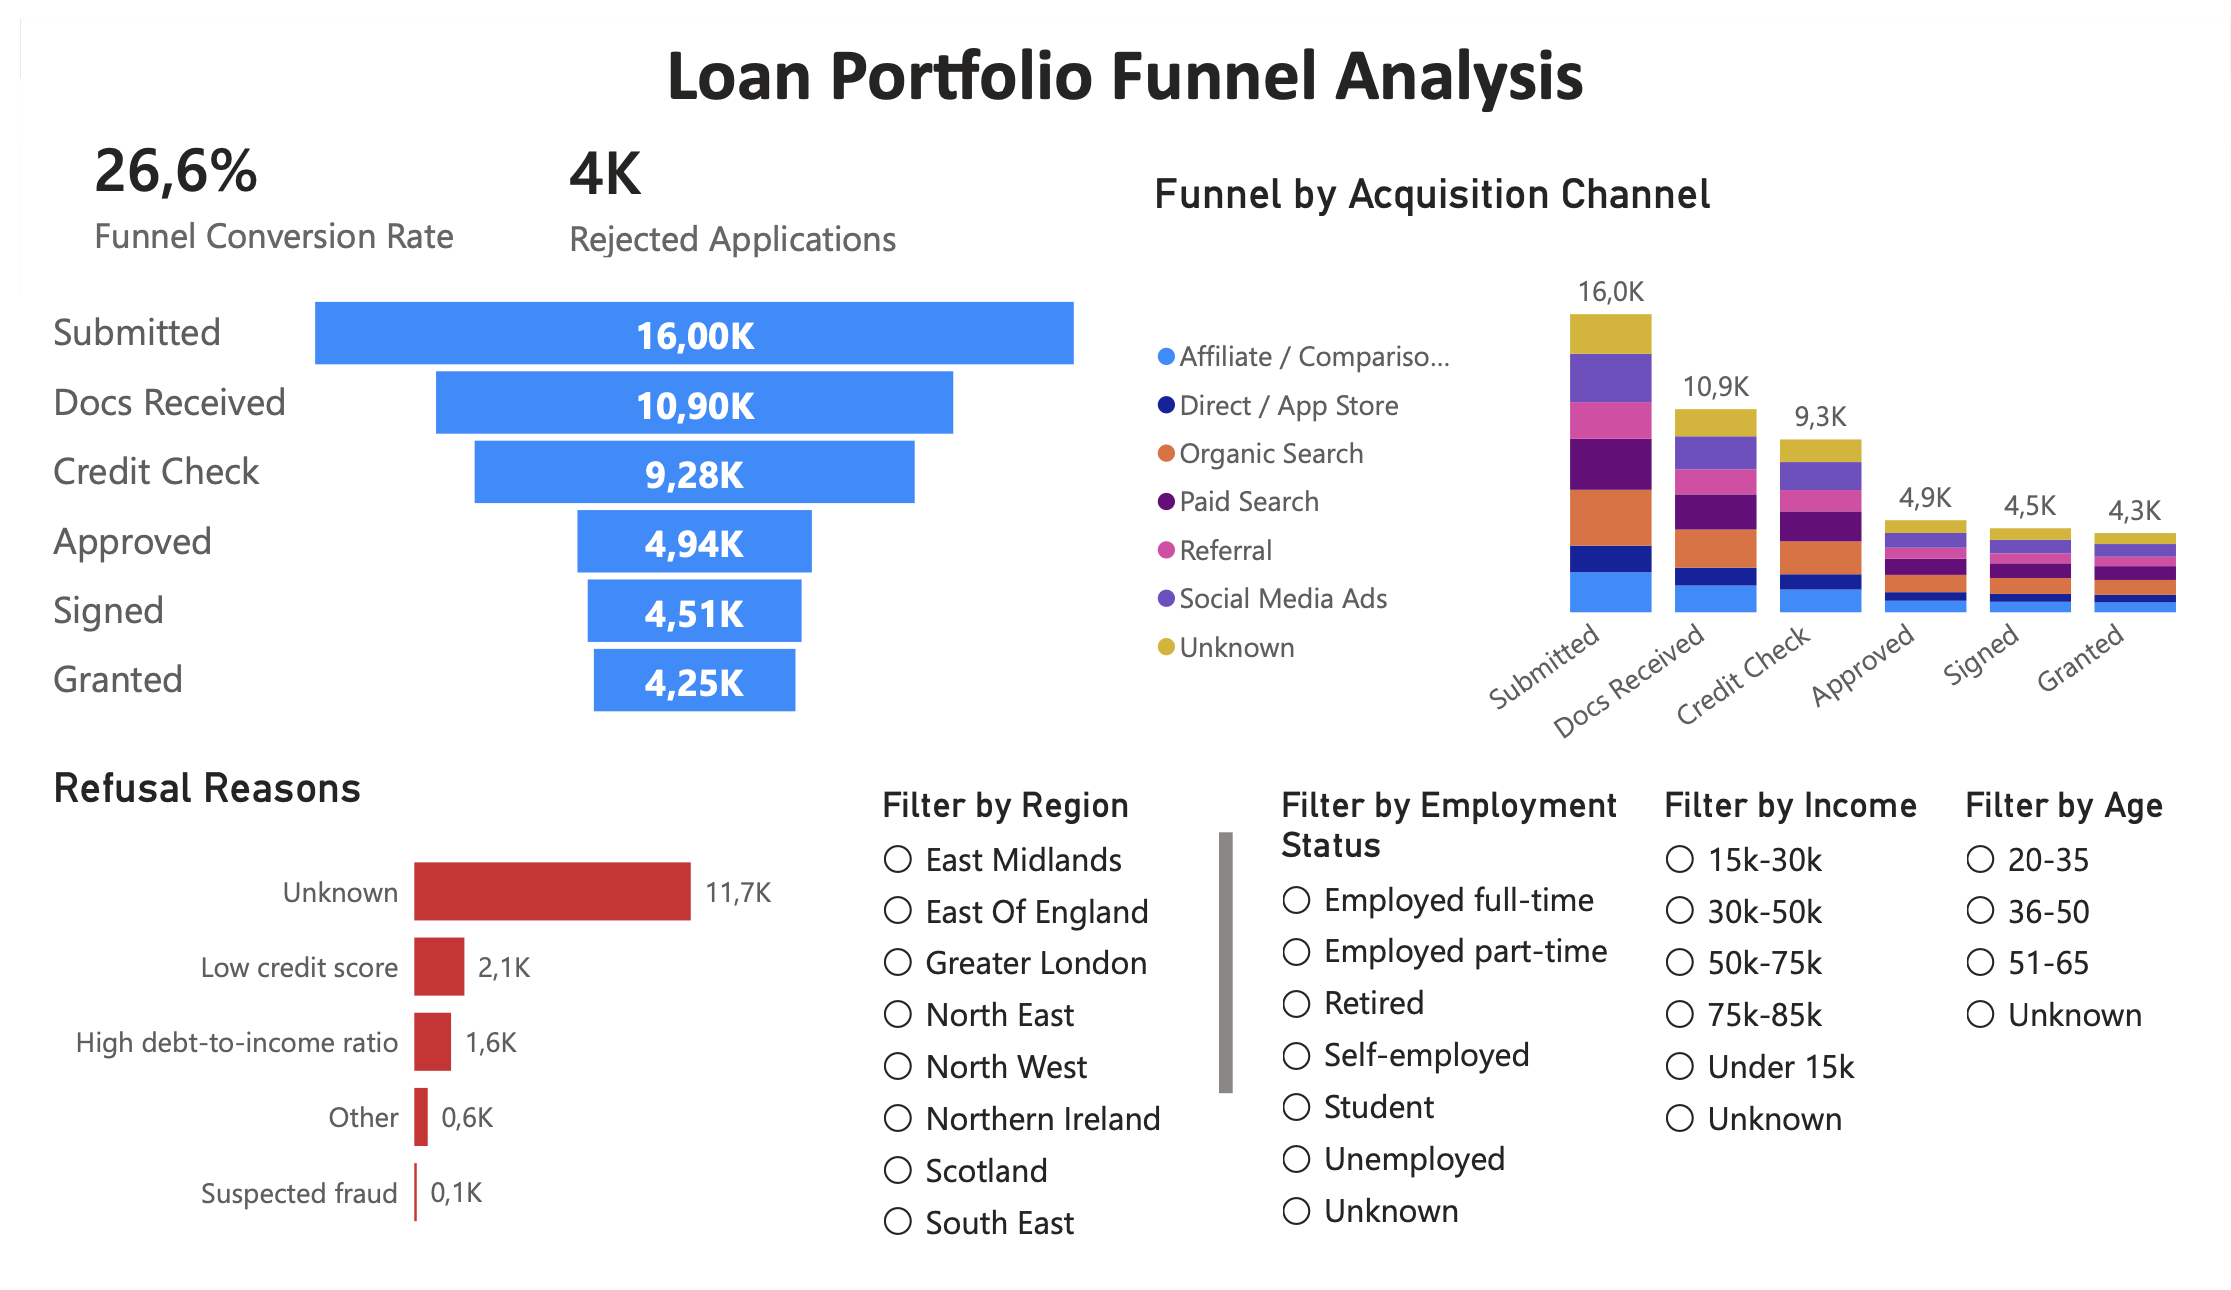

The dashboard page shown, as its layout file describes it:
{"tool":"powerbi","page":{"name":"Funnel Analysis","canvas":[1280,720],"ordinal":1},"visuals":[{"type":"funnel","title":"Funnel","fields":{"Y":["application_events_clean.Applications Submitted","application_events_clean.Applications Docs Received","application_events_clean.Applications Docs Received","application_events_clean.Applications Credit Check","application_events_clean.Applications Approved","application_events_clean.Applications Signed","application_events_clean.Applications Granted"]},"box":[14.5,155.4,605.4,254.8],"z":0},{"type":"textbox","box":[0,0,1280,72.8],"z":1000},{"type":"clusteredBarChart","title":"Refusal Reasons","fields":{"Category":["loan_outcomes_clean.rejection_reason"],"Y":["loan_outcomes_clean.Rejections by Reason"]},"box":[14,430.8,425.5,288.9],"z":2000},{"type":"cardVisual","fields":{"Data":["loan_applications_updated.Funnel Conversion Rate"]},"box":[14.5,43.4,274.7,112],"z":3000},{"type":"cardVisual","fields":{"Data":["application_events_clean.Rejected Applications"]},"box":[289.1,47,265.6,108.4],"z":4000},{"type":"columnChart","title":"Funnel by Acquisition Channel","fields":{"Category":["application_events_clean.status"],"Series":["loan_applications_updated.acquisition_channel"],"Y":["CountNonNull(application_events_clean.loan_id)"]},"box":[652.4,86.7,627.1,356],"z":5000},{"type":"listSlicer","title":"Filter by Employment Status","fields":{"Values":["users_clean.employment_status"]},"box":[724.9,443,222.4,276.7],"z":6000},{"type":"listSlicer","title":"Filter by Income","fields":{"Values":["users_clean.income_range"]},"box":[947.3,443,173.4,276.7],"z":7000},{"type":"listSlicer","title":"Filter by Age","fields":{"Values":["users_clean.age_range"]},"box":[1120.7,443,159.3,276.7],"z":8000},{"type":"listSlicer","title":"Filter by Region","fields":{"Values":["users_clean.region"]},"box":[493.8,443,213.6,276.7],"z":9000}]}

Visuals, with their boxes in screenshot pixels (x1, y1, x2, y2), scaled from the page's 1280x720 canvas onto the 2231x1290 screenshot:
"Funnel" funnel: box=[25, 278, 1080, 735]
textbox: box=[0, 0, 2230, 130]
"Refusal Reasons" clusteredBarChart: box=[24, 772, 766, 1289]
cardVisual - loan_applications_updated.Funnel Conversion Rate: box=[25, 78, 504, 278]
cardVisual - application_events_clean.Rejected Applications: box=[504, 84, 967, 278]
"Funnel by Acquisition Channel" columnChart: box=[1137, 155, 2230, 793]
"Filter by Employment Status" listSlicer: box=[1263, 794, 1651, 1289]
"Filter by Income" listSlicer: box=[1651, 794, 1953, 1289]
"Filter by Age" listSlicer: box=[1953, 794, 2230, 1289]
"Filter by Region" listSlicer: box=[861, 794, 1233, 1289]
